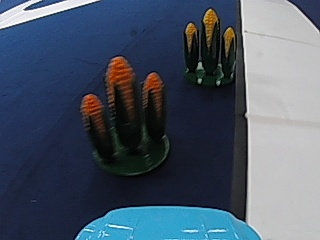corn: (89, 53, 171, 176), (179, 6, 238, 86)
